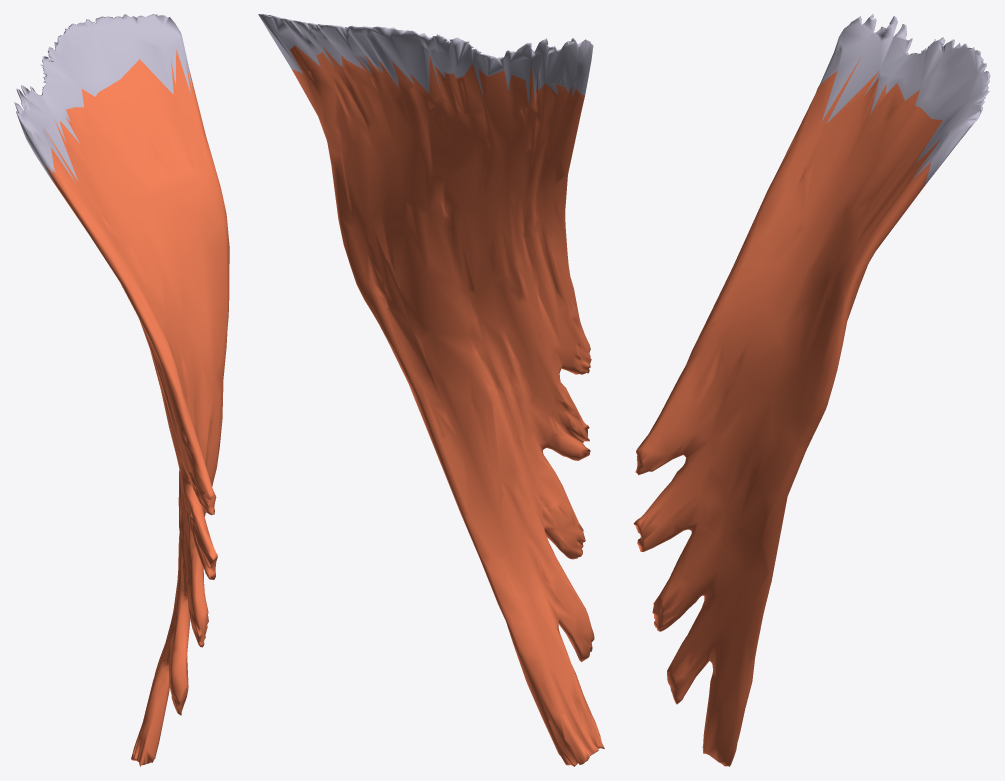
Rendered from Spinalis_capitis_muscle.r_Generated_Mesh_From_X3D.210.glb.
3 views of the same model, side by side, from view 1: azimuth 30°, elevation 25°; view 2: azimuth 150°, elevation 25°; view 3: azimuth 270°, elevation 25° (orthographic). The views are drawn at different scales.
Visible parts, largest first — view 1: Spinalis_capitis_muscle.r_Generated_Mesh_From_X3D.210; view 2: Spinalis_capitis_muscle.r_Generated_Mesh_From_X3D.210; view 3: Spinalis_capitis_muscle.r_Generated_Mesh_From_X3D.210.
Boxes of the visible parts, x1,y1,x2,y2 form: Spinalis_capitis_muscle.r_Generated_Mesh_From_X3D.210: (14,14,229,766); Spinalis_capitis_muscle.r_Generated_Mesh_From_X3D.210: (258,14,604,766); Spinalis_capitis_muscle.r_Generated_Mesh_From_X3D.210: (633,14,990,766).
Size of the model in its own units: 0.0415 by 0.1241 by 0.0546.
